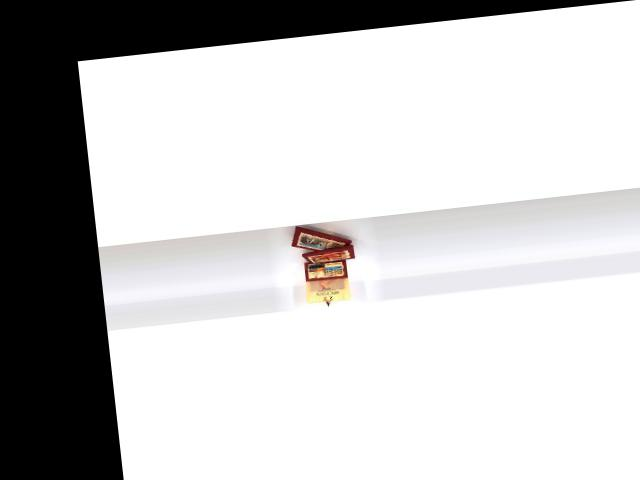chocolate: (276, 215, 356, 258)
